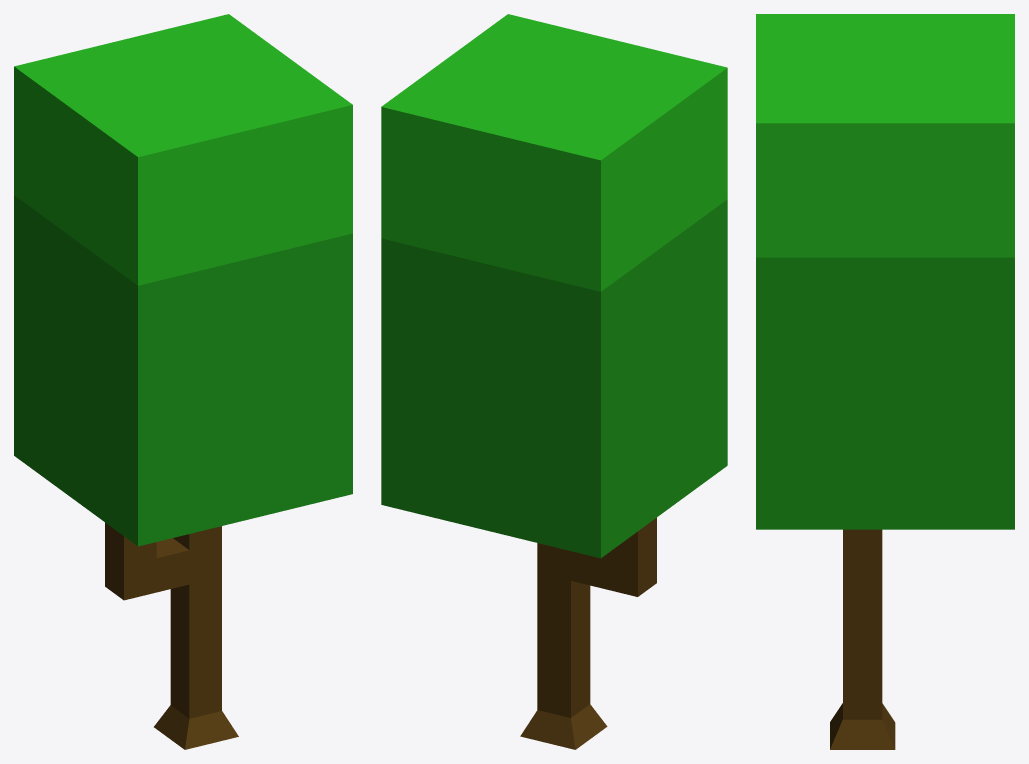
The model's file is forest1.fbx.
The picture shows the model from 3 angles, left to right: view 1: azimuth 30°, elevation 25°; view 2: azimuth 150°, elevation 25°; view 3: azimuth 270°, elevation 25°; orthographic projection. The views are drawn at different scales.
Parts seen in each view (by area): view 1: forest1; view 2: forest1; view 3: forest1.
Boxes of the visible parts, box(x1,y1,x2,y2) form: forest1: box(14, 14, 352, 749); forest1: box(381, 14, 727, 749); forest1: box(756, 14, 1014, 749).
Size of the model in its own units: 426 by 1210 by 426.
Materials: 1 (1 with a texture image).
